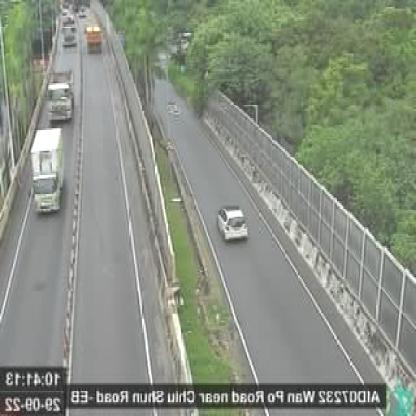Car: (216, 203, 251, 243), (84, 21, 104, 54), (63, 18, 80, 48)
Truck: (29, 127, 70, 218), (47, 62, 75, 122)
